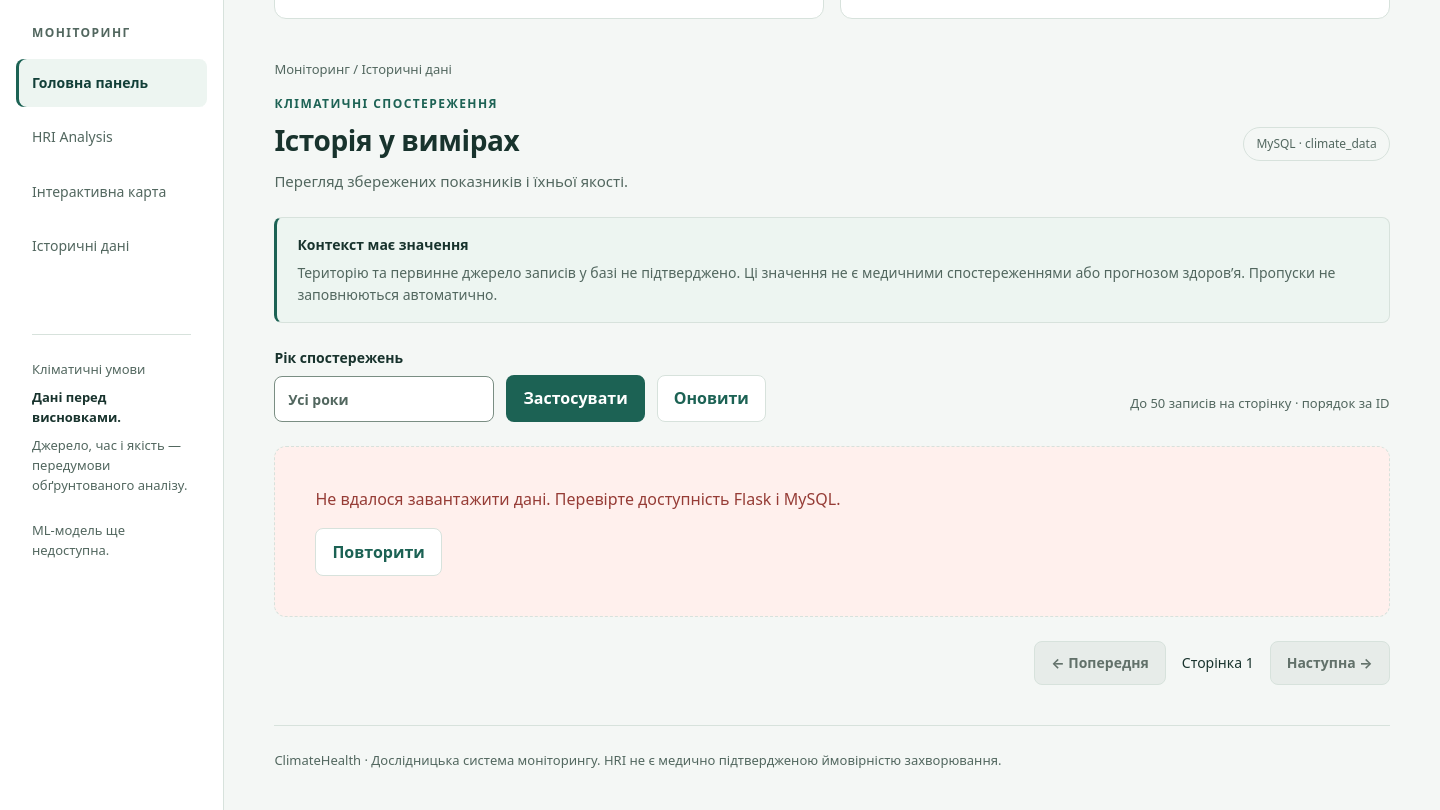
Test case: Historical observations › renders error and retries
This screenshot has width=1440, height=810.
(page scrolled)
Expected: the message "Не вдалося завантажити дані. Перевірте доступність Flask і MySQL. Повторити" is shown, [274,446,1390,617]
Click the button "Повторити": [379, 552] box [315,528,442,576]
(page scrolled)
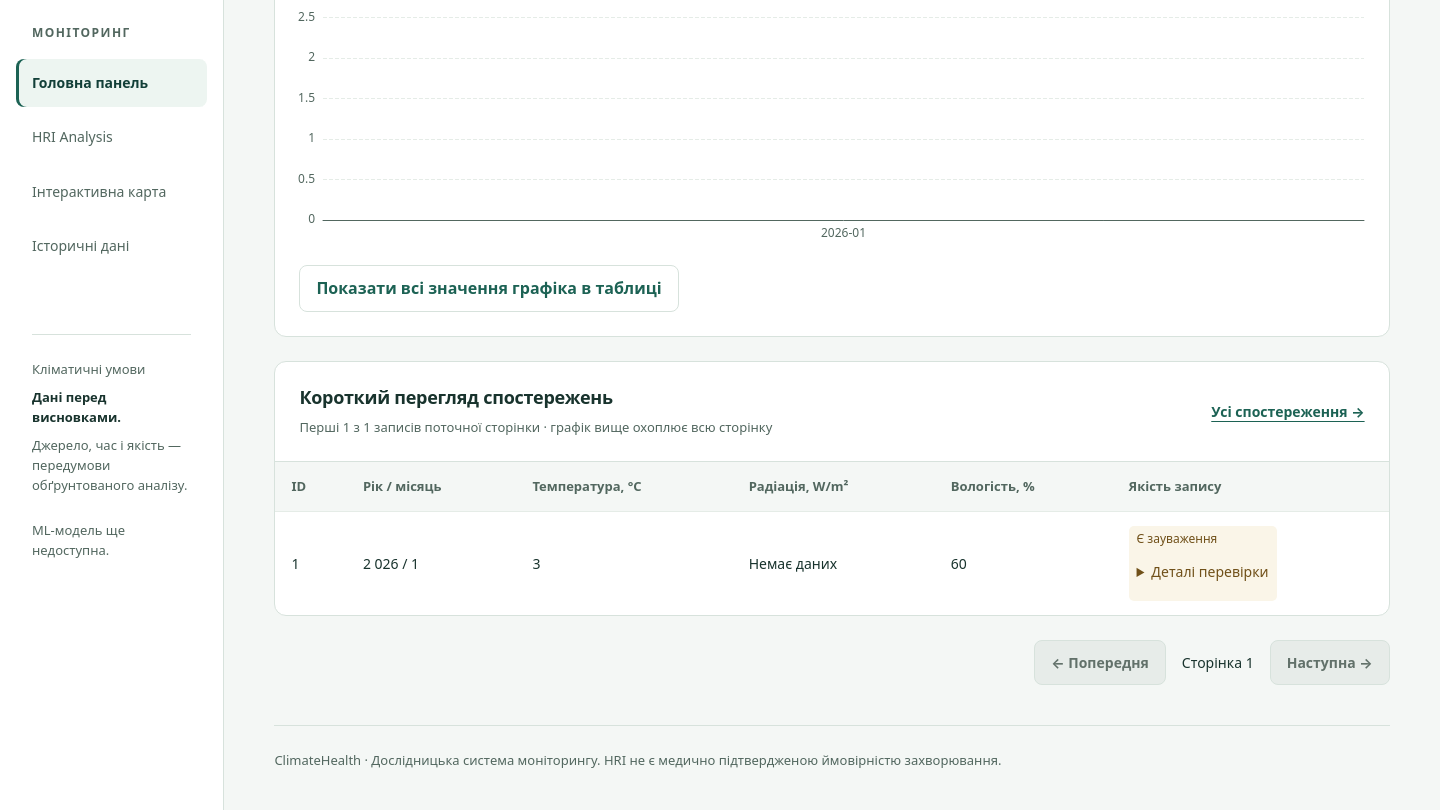
Result: the table is shown at [275,462,1389,615]
